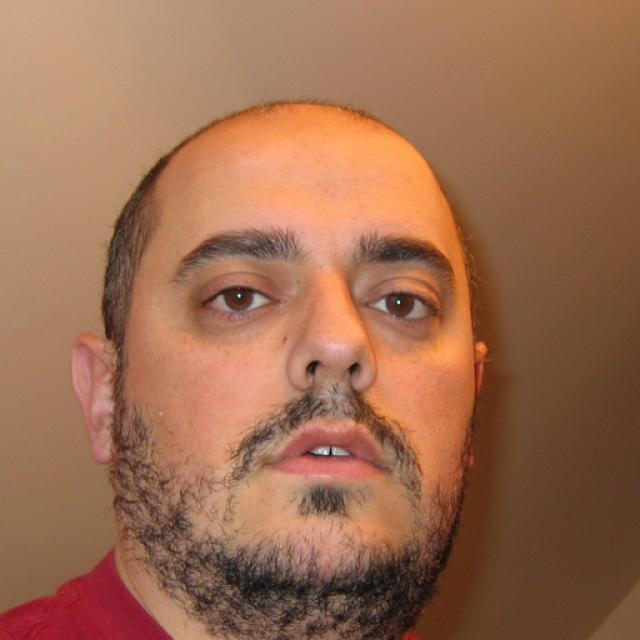neutral: (119, 100, 476, 598)
